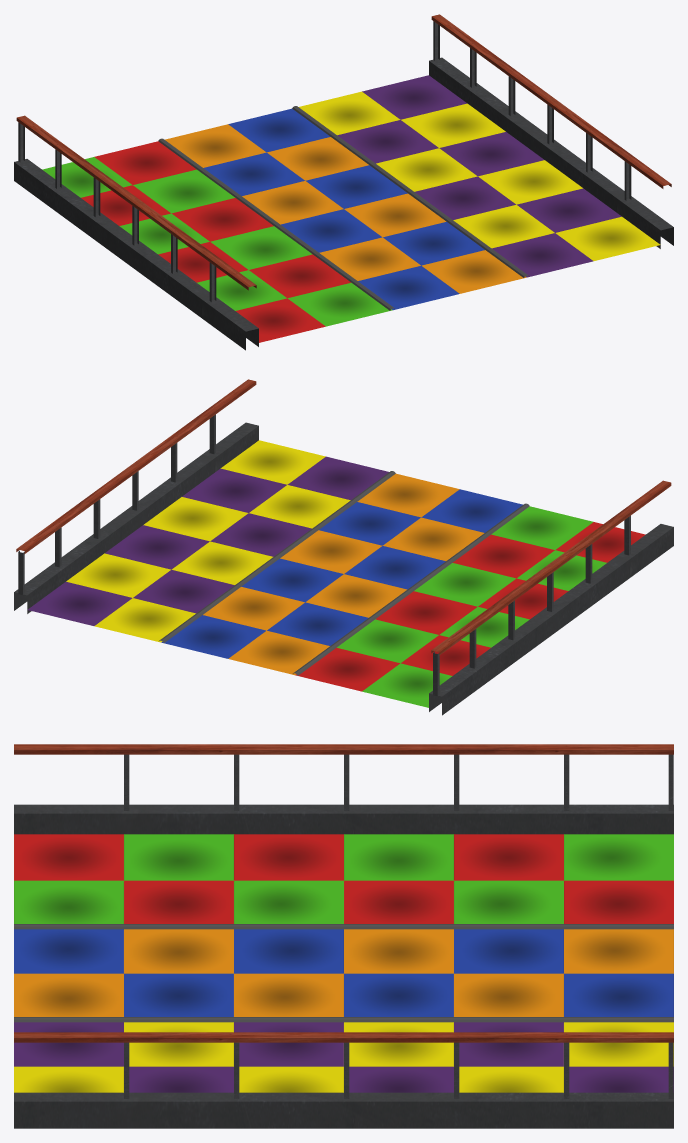
Rendered from floor_new_side.fbx.
3 views of the same model, one above another, from view 1: azimuth 30°, elevation 25°; view 2: azimuth 150°, elevation 25°; view 3: azimuth 270°, elevation 25° (orthographic). The views are drawn at different scales.
Parts seen in each view (by area): view 1: polySurface5; view 2: polySurface5; view 3: polySurface5.
Part boxes in pixels (x1=…): polySurface5: x1=14, y1=14, x2=673, y2=350; polySurface5: x1=14, y1=379, x2=673, y2=715; polySurface5: x1=14, y1=744, x2=673, y2=1128.
Bounding box in the file's own units: 3.2 × 0.4471 × 3.
Materials: 2 (2 with a texture image).
